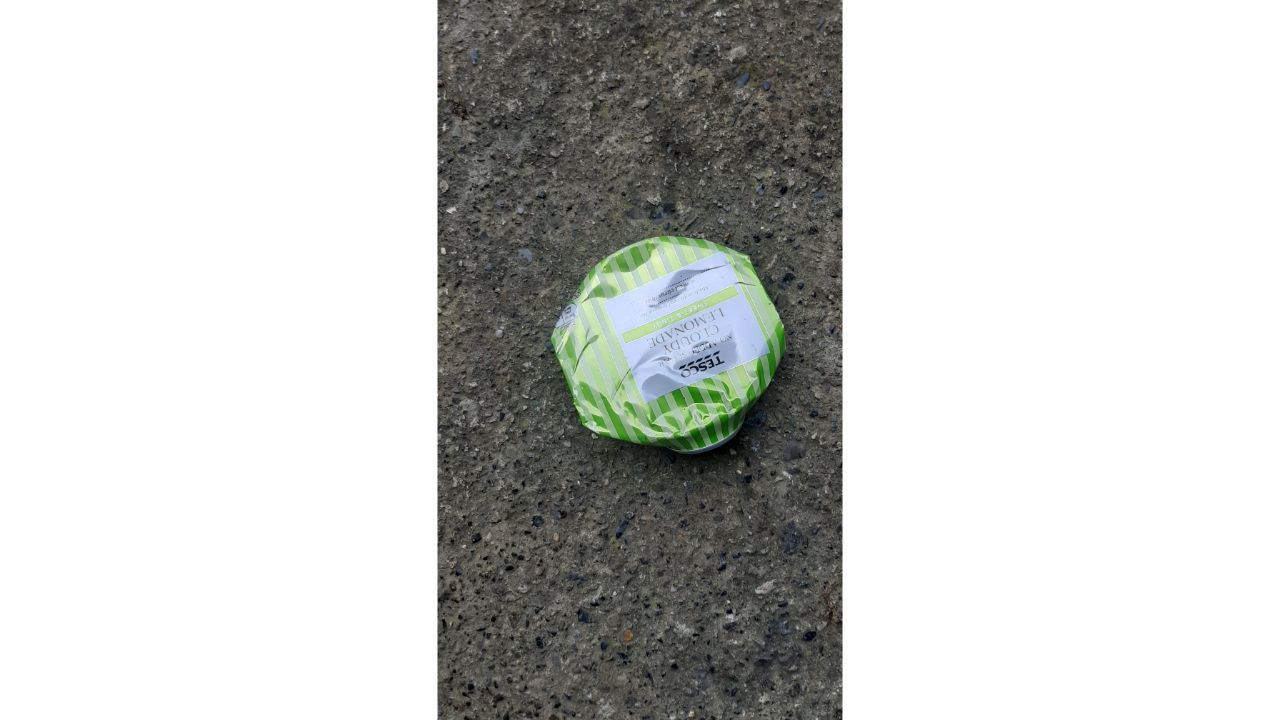Can: (548, 234, 784, 454)
